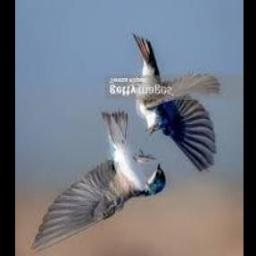Swallow: (30, 111, 166, 255), (133, 36, 219, 172)
